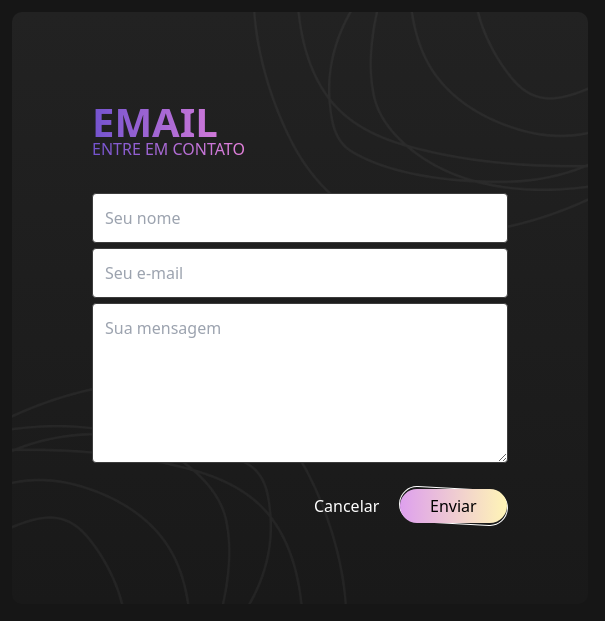
<Email /> › should reset the form when 'Cancelar' is clicked
The image size is (605, 621).
In the field with placeholder "Seu nome": (300, 218) [92,193,508,243], type "John Doe"
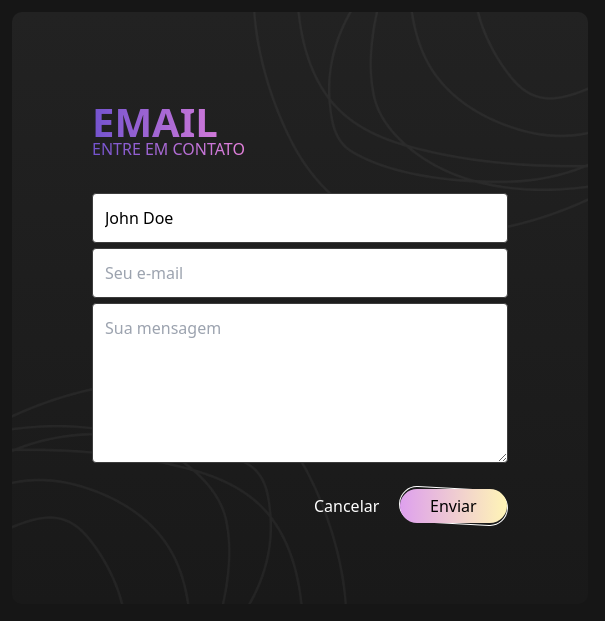
In the field with placeholder "Seu e-mail": (300, 273) [92,248,508,298], type "john@example.com"
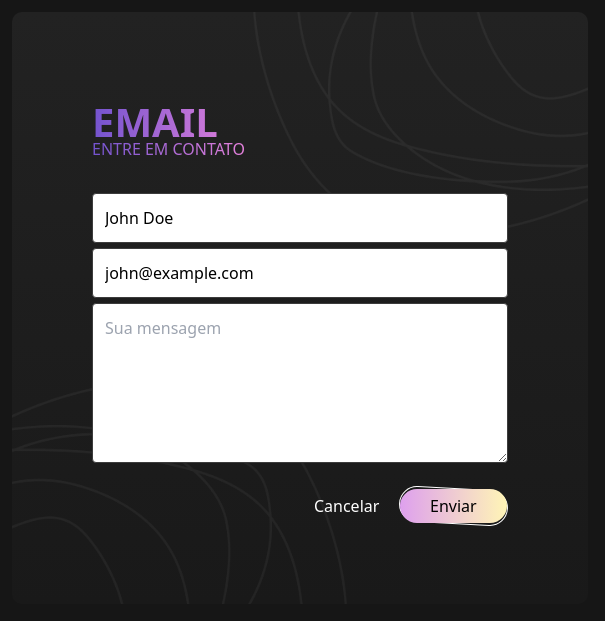
In the text box with placeholder "Sua mensagem": (300, 383) [92,303,508,463], type "Hello world"
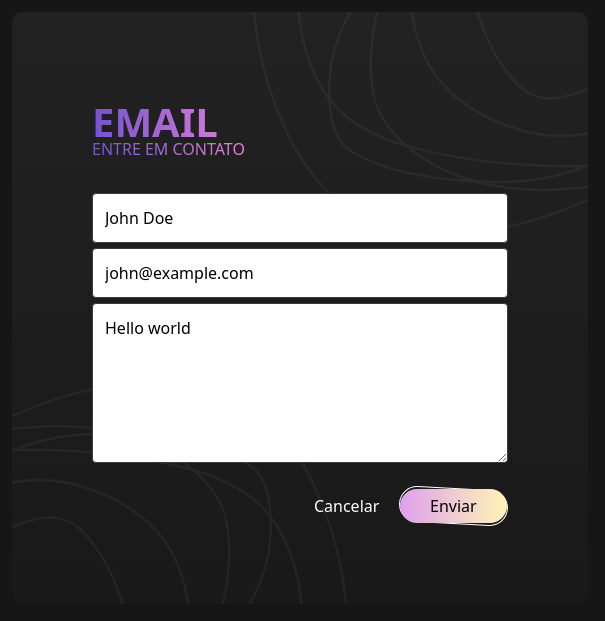
Click the button "Cancelar": (347, 506) [314,488,379,524]
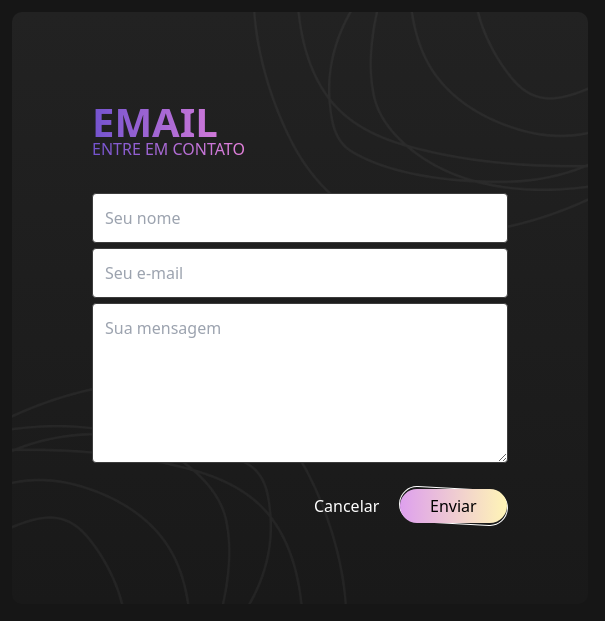
Result: the field with placeholder "Seu nome" is empty at [92,193,508,243]
Result: the field with placeholder "Seu e-mail" is empty at [92,248,508,298]
Result: the text box with placeholder "Sua mensagem" is empty at [92,303,508,463]
